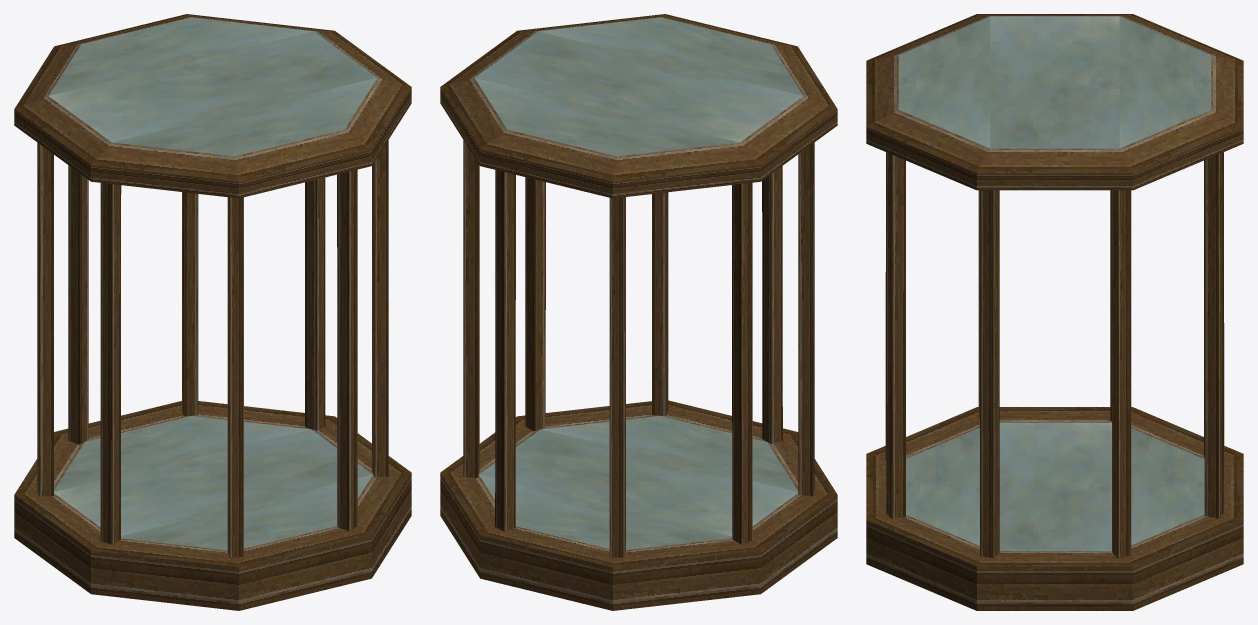
The model's file is slum_octagon02.fbx.
The picture shows the model from 3 angles, left to right: view 1: azimuth 30°, elevation 25°; view 2: azimuth 150°, elevation 25°; view 3: azimuth 270°, elevation 25°; orthographic projection.
Visible parts, largest first — view 1: mesh_0; view 2: mesh_0; view 3: mesh_0.
Boxes of the visible parts, box(x1,y1,x2,y2) form: mesh_0: box(14, 14, 411, 610); mesh_0: box(440, 14, 837, 610); mesh_0: box(866, 14, 1243, 610).
Size of the model in its own units: 46.19 by 60.63 by 46.19.
1 material, 1 textured.
